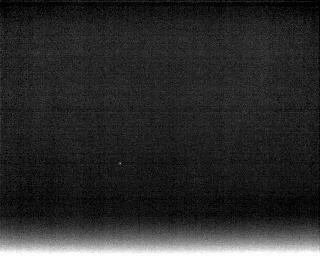AIRPLANE: (117, 159, 124, 169)
